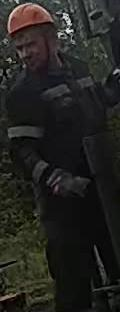gloves: (31, 159, 91, 198), (99, 65, 120, 110)
helmet: (6, 2, 54, 37)
vest: (5, 56, 100, 214)
